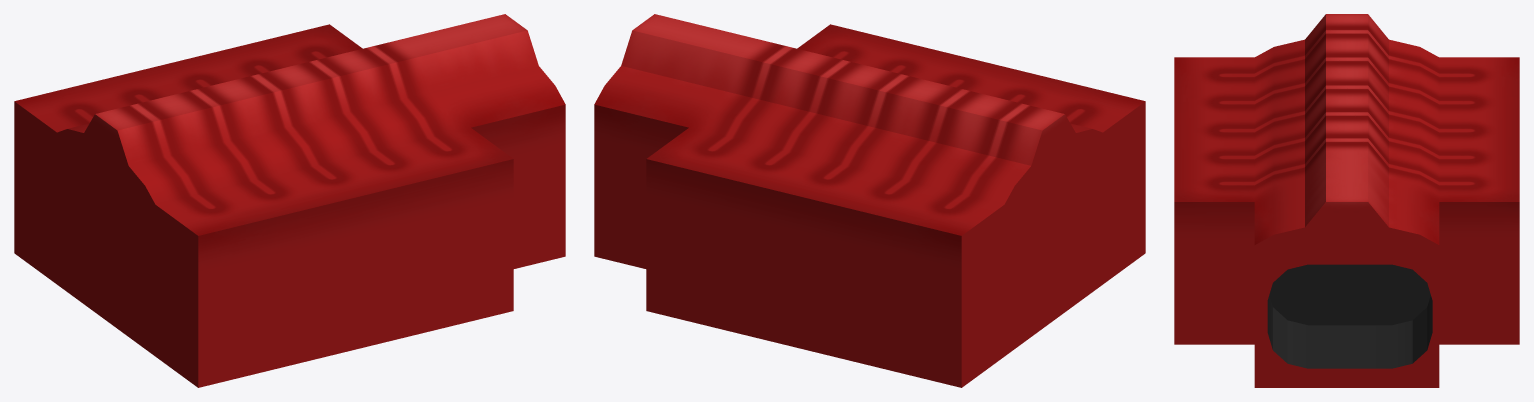
File: Port_03.fbx
The picture shows the model from 3 angles, left to right: view 1: azimuth 30°, elevation 25°; view 2: azimuth 150°, elevation 25°; view 3: azimuth 270°, elevation 25°; orthographic projection. The views are drawn at different scales.
Visible parts, largest first — view 1: Port_03; view 2: Port_03; view 3: Port_03.
Boxes of the visible parts, x1,y1,x2,y2 form: Port_03: [14, 14, 565, 387]; Port_03: [594, 14, 1145, 387]; Port_03: [1174, 14, 1519, 387].
Bounding box in the file's own units: 1.62 × 0.7484 × 1.26.
